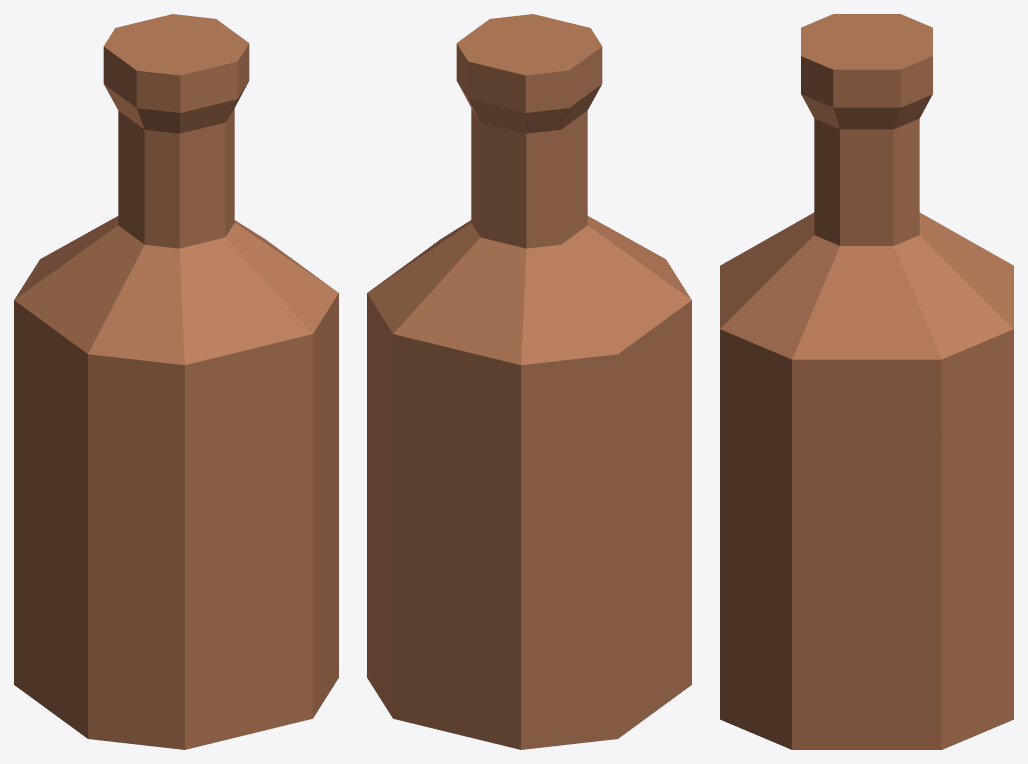
File: bottle.glb
The picture shows the model from 3 angles, left to right: view 1: azimuth 30°, elevation 25°; view 2: azimuth 150°, elevation 25°; view 3: azimuth 270°, elevation 25°; orthographic projection.
Parts seen in each view (by area): view 1: mesh_id4, mesh_id5, mesh_id6; view 2: mesh_id4, mesh_id5, mesh_id6; view 3: mesh_id4, mesh_id5, mesh_id6.
Boxes of the visible parts, box(x1,y1,x2,y2) form: mesh_id4: box(14, 14, 338, 749); mesh_id5: box(14, 368, 338, 749); mesh_id6: box(14, 371, 338, 665); mesh_id4: box(367, 14, 691, 749); mesh_id5: box(367, 368, 691, 749); mesh_id6: box(367, 371, 691, 665); mesh_id4: box(720, 14, 1013, 749); mesh_id5: box(720, 405, 1013, 749); mesh_id6: box(720, 406, 1013, 665).
Bounding box in the file's own units: 0.2112 × 0.512 × 0.2112.
3 materials, 3 textured.
